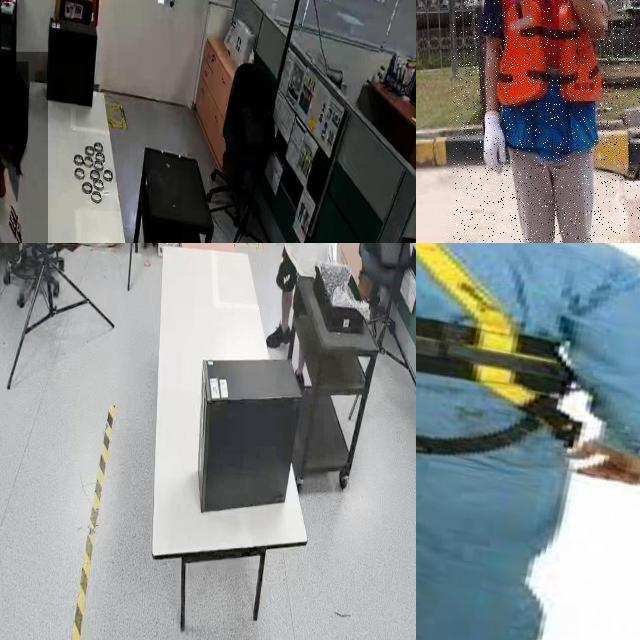Harness: (416, 243, 568, 406)
hand_glove: (474, 109, 512, 174), (326, 243, 341, 274)
head_nohelmet: (0, 61, 29, 110)
person: (468, 0, 622, 243), (270, 243, 349, 352)
shoes: (265, 311, 295, 357)
vest: (489, 0, 607, 109)
